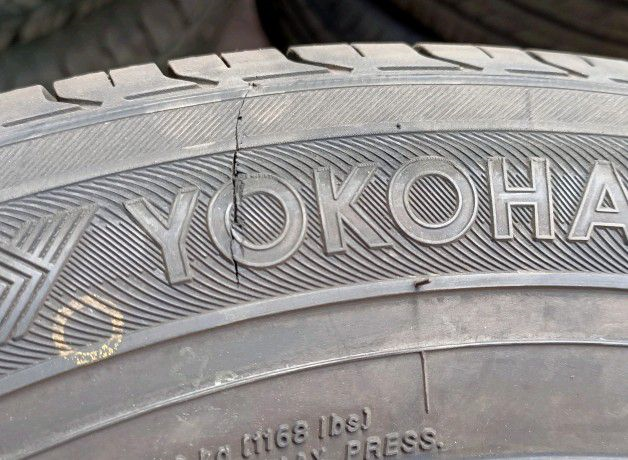cut: (226, 86, 253, 293)
